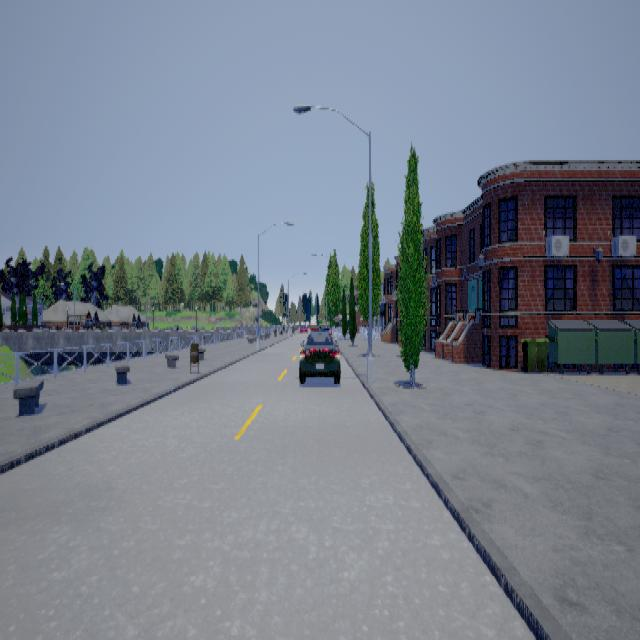vehicle: (298, 325, 340, 382)
